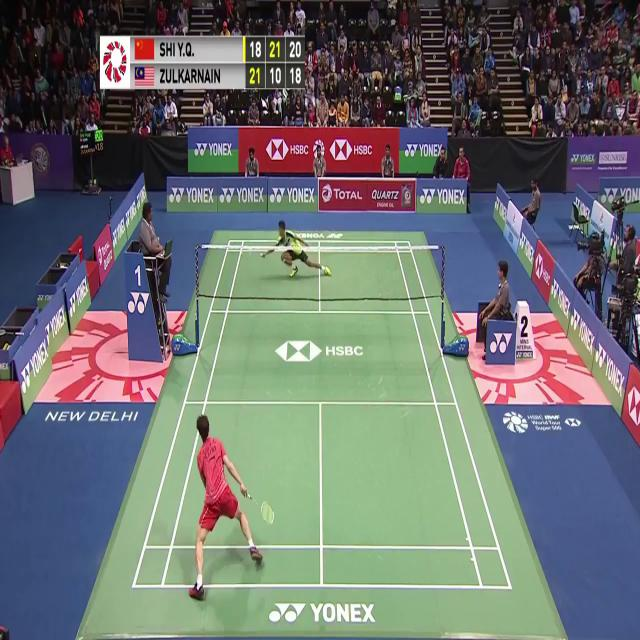Shuttlecock: (245, 245, 251, 256)
